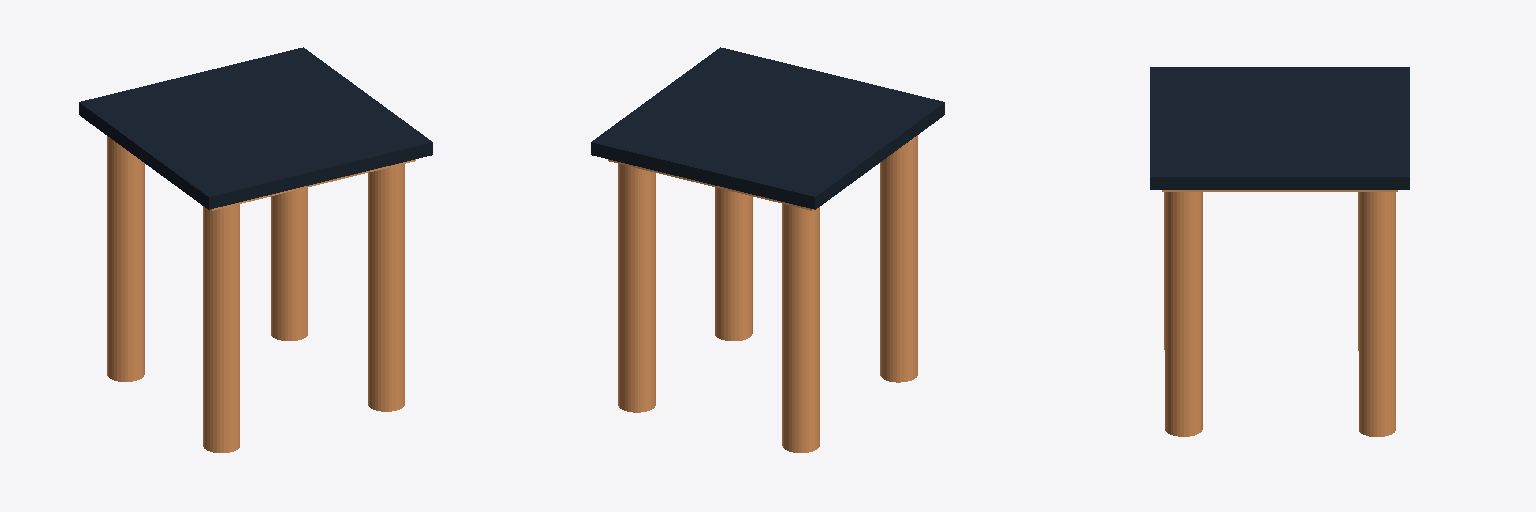
The model's file is Tafeltje.obj.
3 renders of one model, left to right at view 1: azimuth 30°, elevation 25°; view 2: azimuth 150°, elevation 25°; view 3: azimuth 270°, elevation 25°, orthographic.
Visible parts, largest first — view 1: Cube.001_Cube.002, Cylinder, Cylinder.002, Cylinder.001, Cylinder.003; view 2: Cube.001_Cube.002, Cylinder.001, Cylinder.003, Cylinder, Cylinder.002; view 3: Cube.001_Cube.002, Cylinder.002, Cylinder.003.
Boxes of the visible parts, <box> form: Cube.001_Cube.002: <box>79,47,432,209</box>; Cylinder: <box>203,204,239,452</box>; Cylinder.002: <box>368,164,404,411</box>; Cylinder.001: <box>107,136,144,381</box>; Cylinder.003: <box>271,188,307,340</box>; Cube.001_Cube.002: <box>591,47,944,209</box>; Cylinder.001: <box>782,204,819,452</box>; Cylinder.003: <box>618,164,655,412</box>; Cylinder: <box>880,135,917,382</box>; Cylinder.002: <box>715,187,752,340</box>; Cube.001_Cube.002: <box>1150,67,1409,189</box>; Cylinder.002: <box>1165,192,1202,436</box>; Cylinder.003: <box>1359,192,1395,436</box>.
Bounding box in the file's own units: 0.55 × 0.6259 × 0.55.